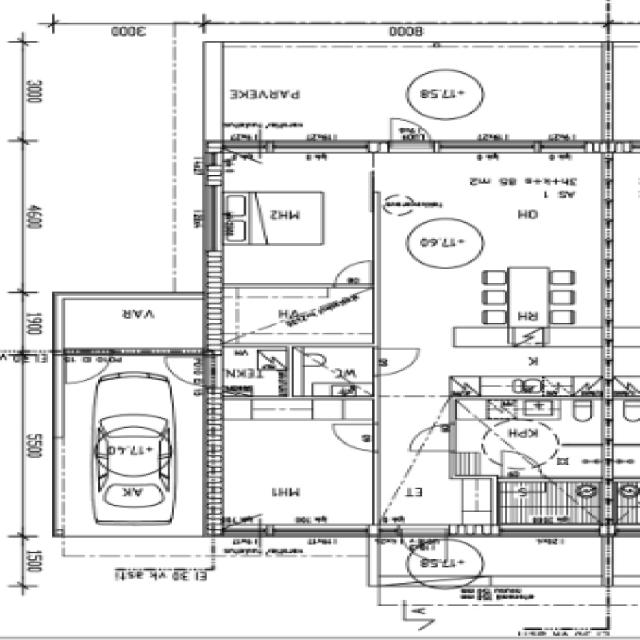door: (61, 348, 111, 386), (370, 345, 424, 379), (328, 419, 380, 453), (385, 116, 434, 150), (326, 257, 378, 289), (407, 423, 457, 455), (402, 532, 448, 563), (226, 139, 266, 169)
window: (263, 138, 370, 159), (431, 140, 536, 158), (262, 524, 366, 541), (534, 139, 592, 154), (224, 528, 262, 539)
zone: (205, 398, 377, 534), (210, 149, 378, 286), (378, 151, 614, 222), (452, 398, 614, 478), (449, 324, 610, 397), (216, 286, 380, 346), (52, 296, 216, 354), (97, 384, 172, 495), (494, 478, 607, 526), (293, 346, 377, 397), (212, 347, 290, 398), (100, 482, 166, 510)
